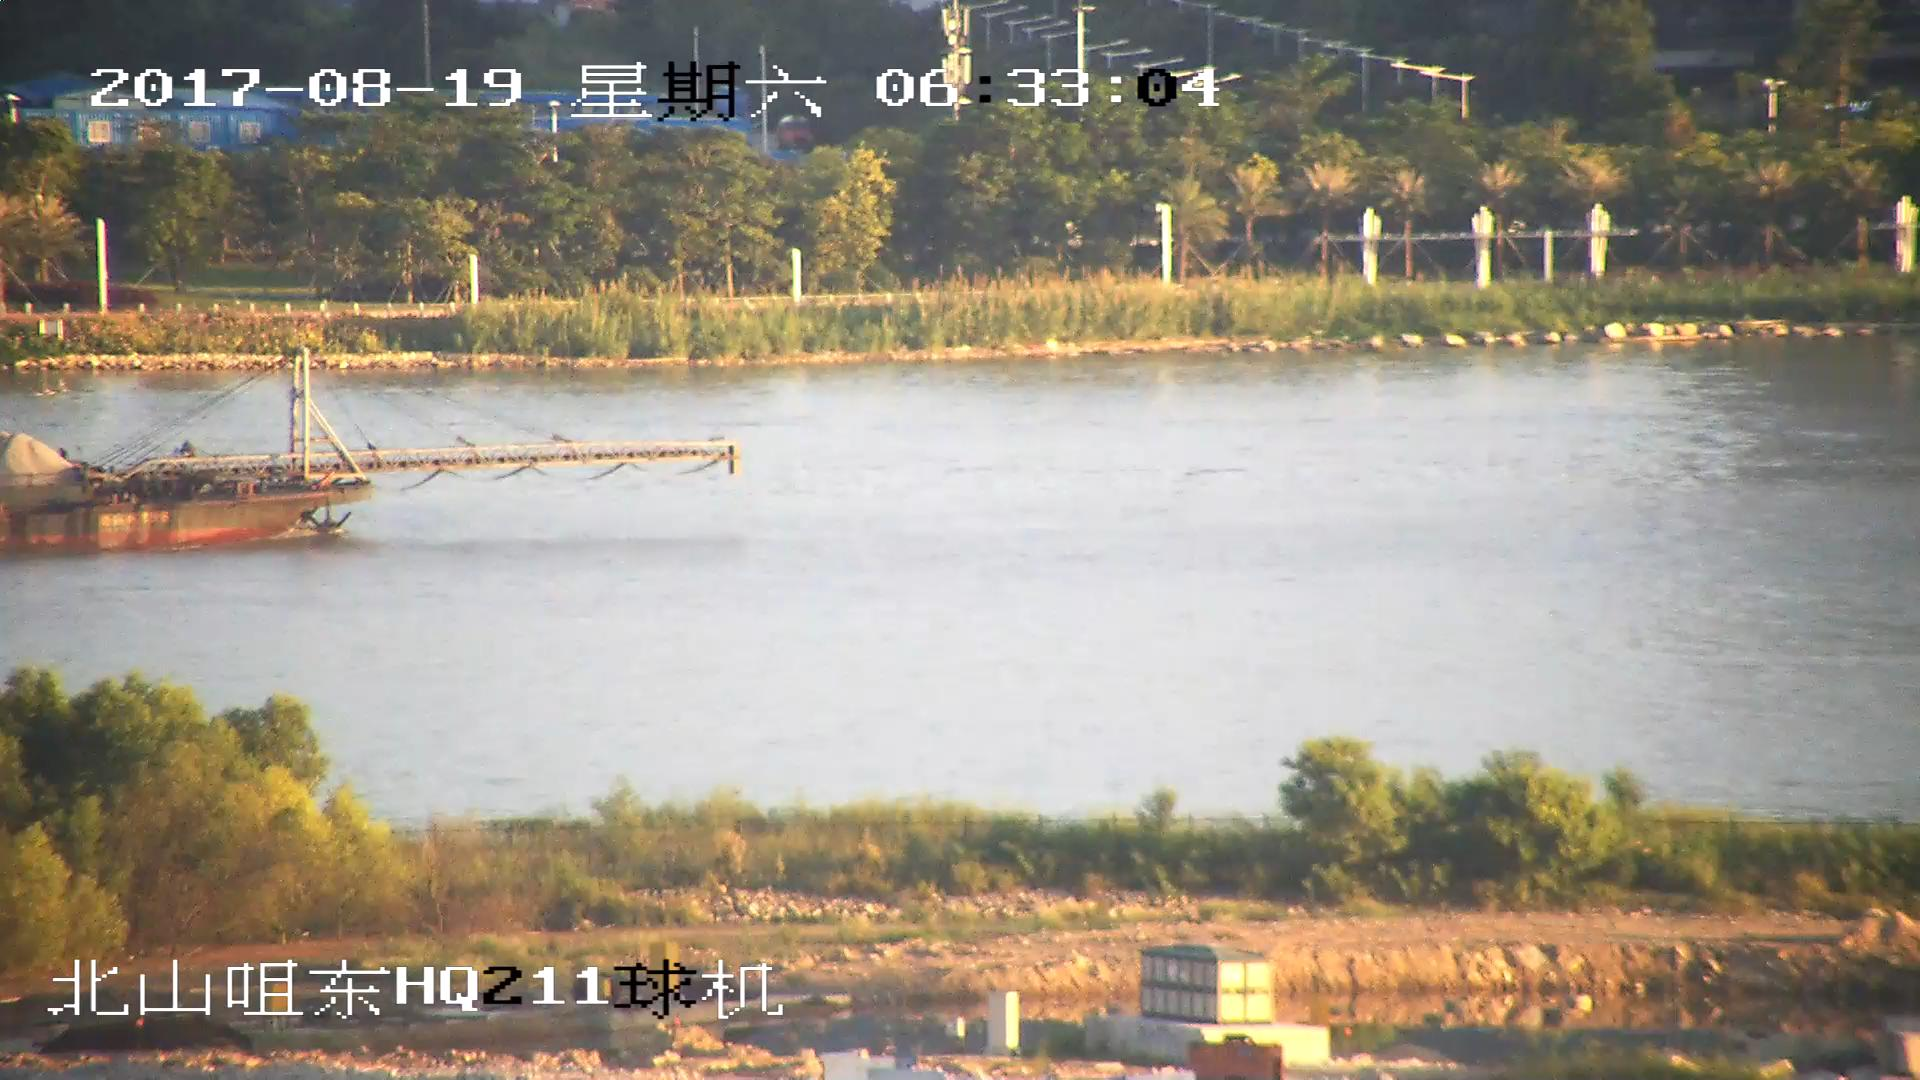ore carrier: (1, 349, 742, 555)
